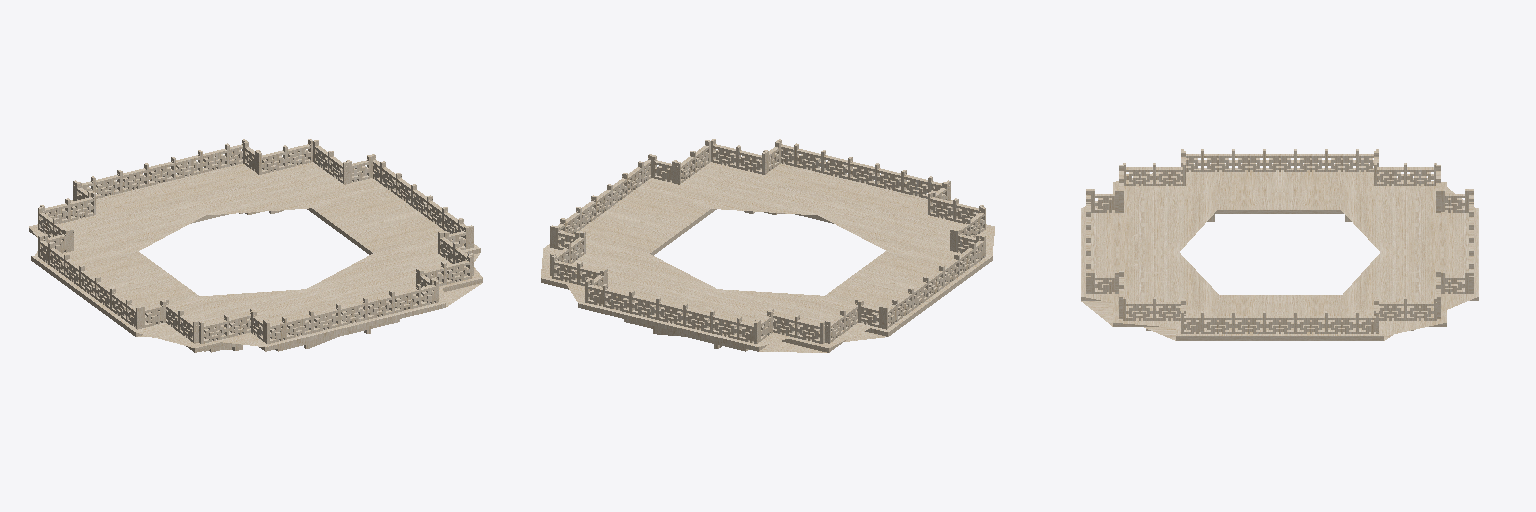
The picture shows the model from 3 angles: view 1: azimuth 30°, elevation 25°; view 2: azimuth 150°, elevation 25°; view 3: azimuth 270°, elevation 25°; orthographic projection.
Visible parts, largest first — view 1: Mesh55 ___597_2 ___657_1 Model, Mesh71 ___597_4 ___657_1 Model, Mesh47 ___597_1 ___657_1 Model, Mesh63 ___597_3 ___657_1 Model; view 2: Mesh47 ___597_1 ___657_1 Model, Mesh63 ___597_3 ___657_1 Model, Mesh55 ___597_2 ___657_1 Model, Mesh71 ___597_4 ___657_1 Model; view 3: Mesh71 ___597_4 ___657_1 Model, Mesh63 ___597_3 ___657_1 Model, Mesh47 ___597_1 ___657_1 Model, Mesh55 ___597_2 ___657_1 Model.
Boxes of the visible parts, box(x1,y1,x2,y2) form: Mesh55 ___597_2 ___657_1 Model: box(162, 162, 418, 234); Mesh71 ___597_4 ___657_1 Model: box(29, 182, 205, 298); Mesh47 ___597_1 ___657_1 Model: box(307, 212, 482, 329); Mesh63 ___597_3 ___657_1 Model: box(84, 274, 355, 352); Mesh47 ___597_1 ___657_1 Model: box(605, 161, 861, 234); Mesh63 ___597_3 ___657_1 Model: box(818, 182, 994, 298); Mesh55 ___597_2 ___657_1 Model: box(541, 212, 716, 329); Mesh71 ___597_4 ___657_1 Model: box(668, 274, 939, 352); Mesh71 ___597_4 ___657_1 Model: box(1280, 170, 1478, 251); Mesh63 ___597_3 ___657_1 Model: box(1081, 170, 1279, 251); Mesh47 ___597_1 ___657_1 Model: box(1081, 252, 1279, 340); Mesh55 ___597_2 ___657_1 Model: box(1280, 252, 1478, 340).
Size of the model in its own units: 158 by 21.89 by 159.
Materials: 1 (1 with a texture image).